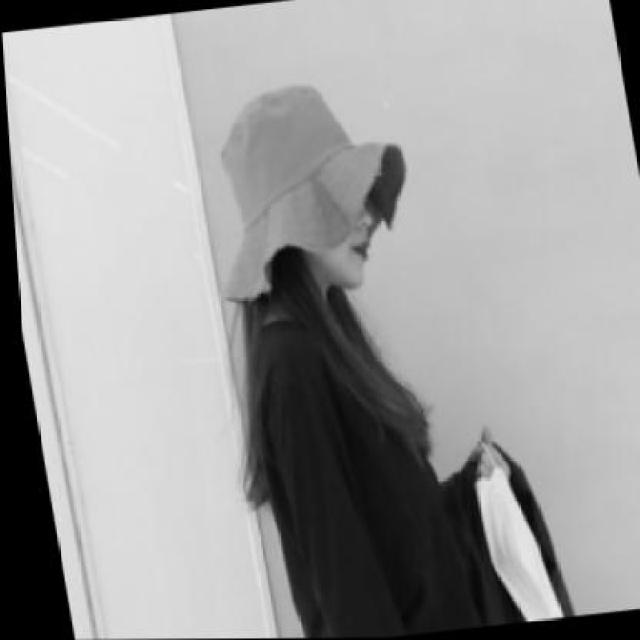hat: (182, 67, 427, 310)
